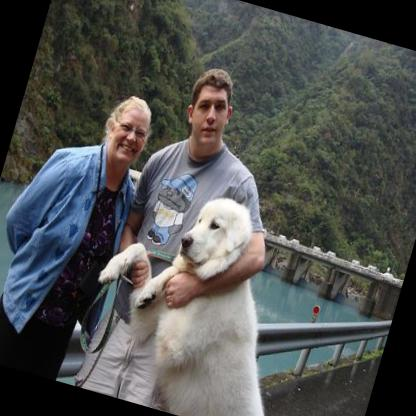Great_Pyrenees: (65, 166, 326, 416)
